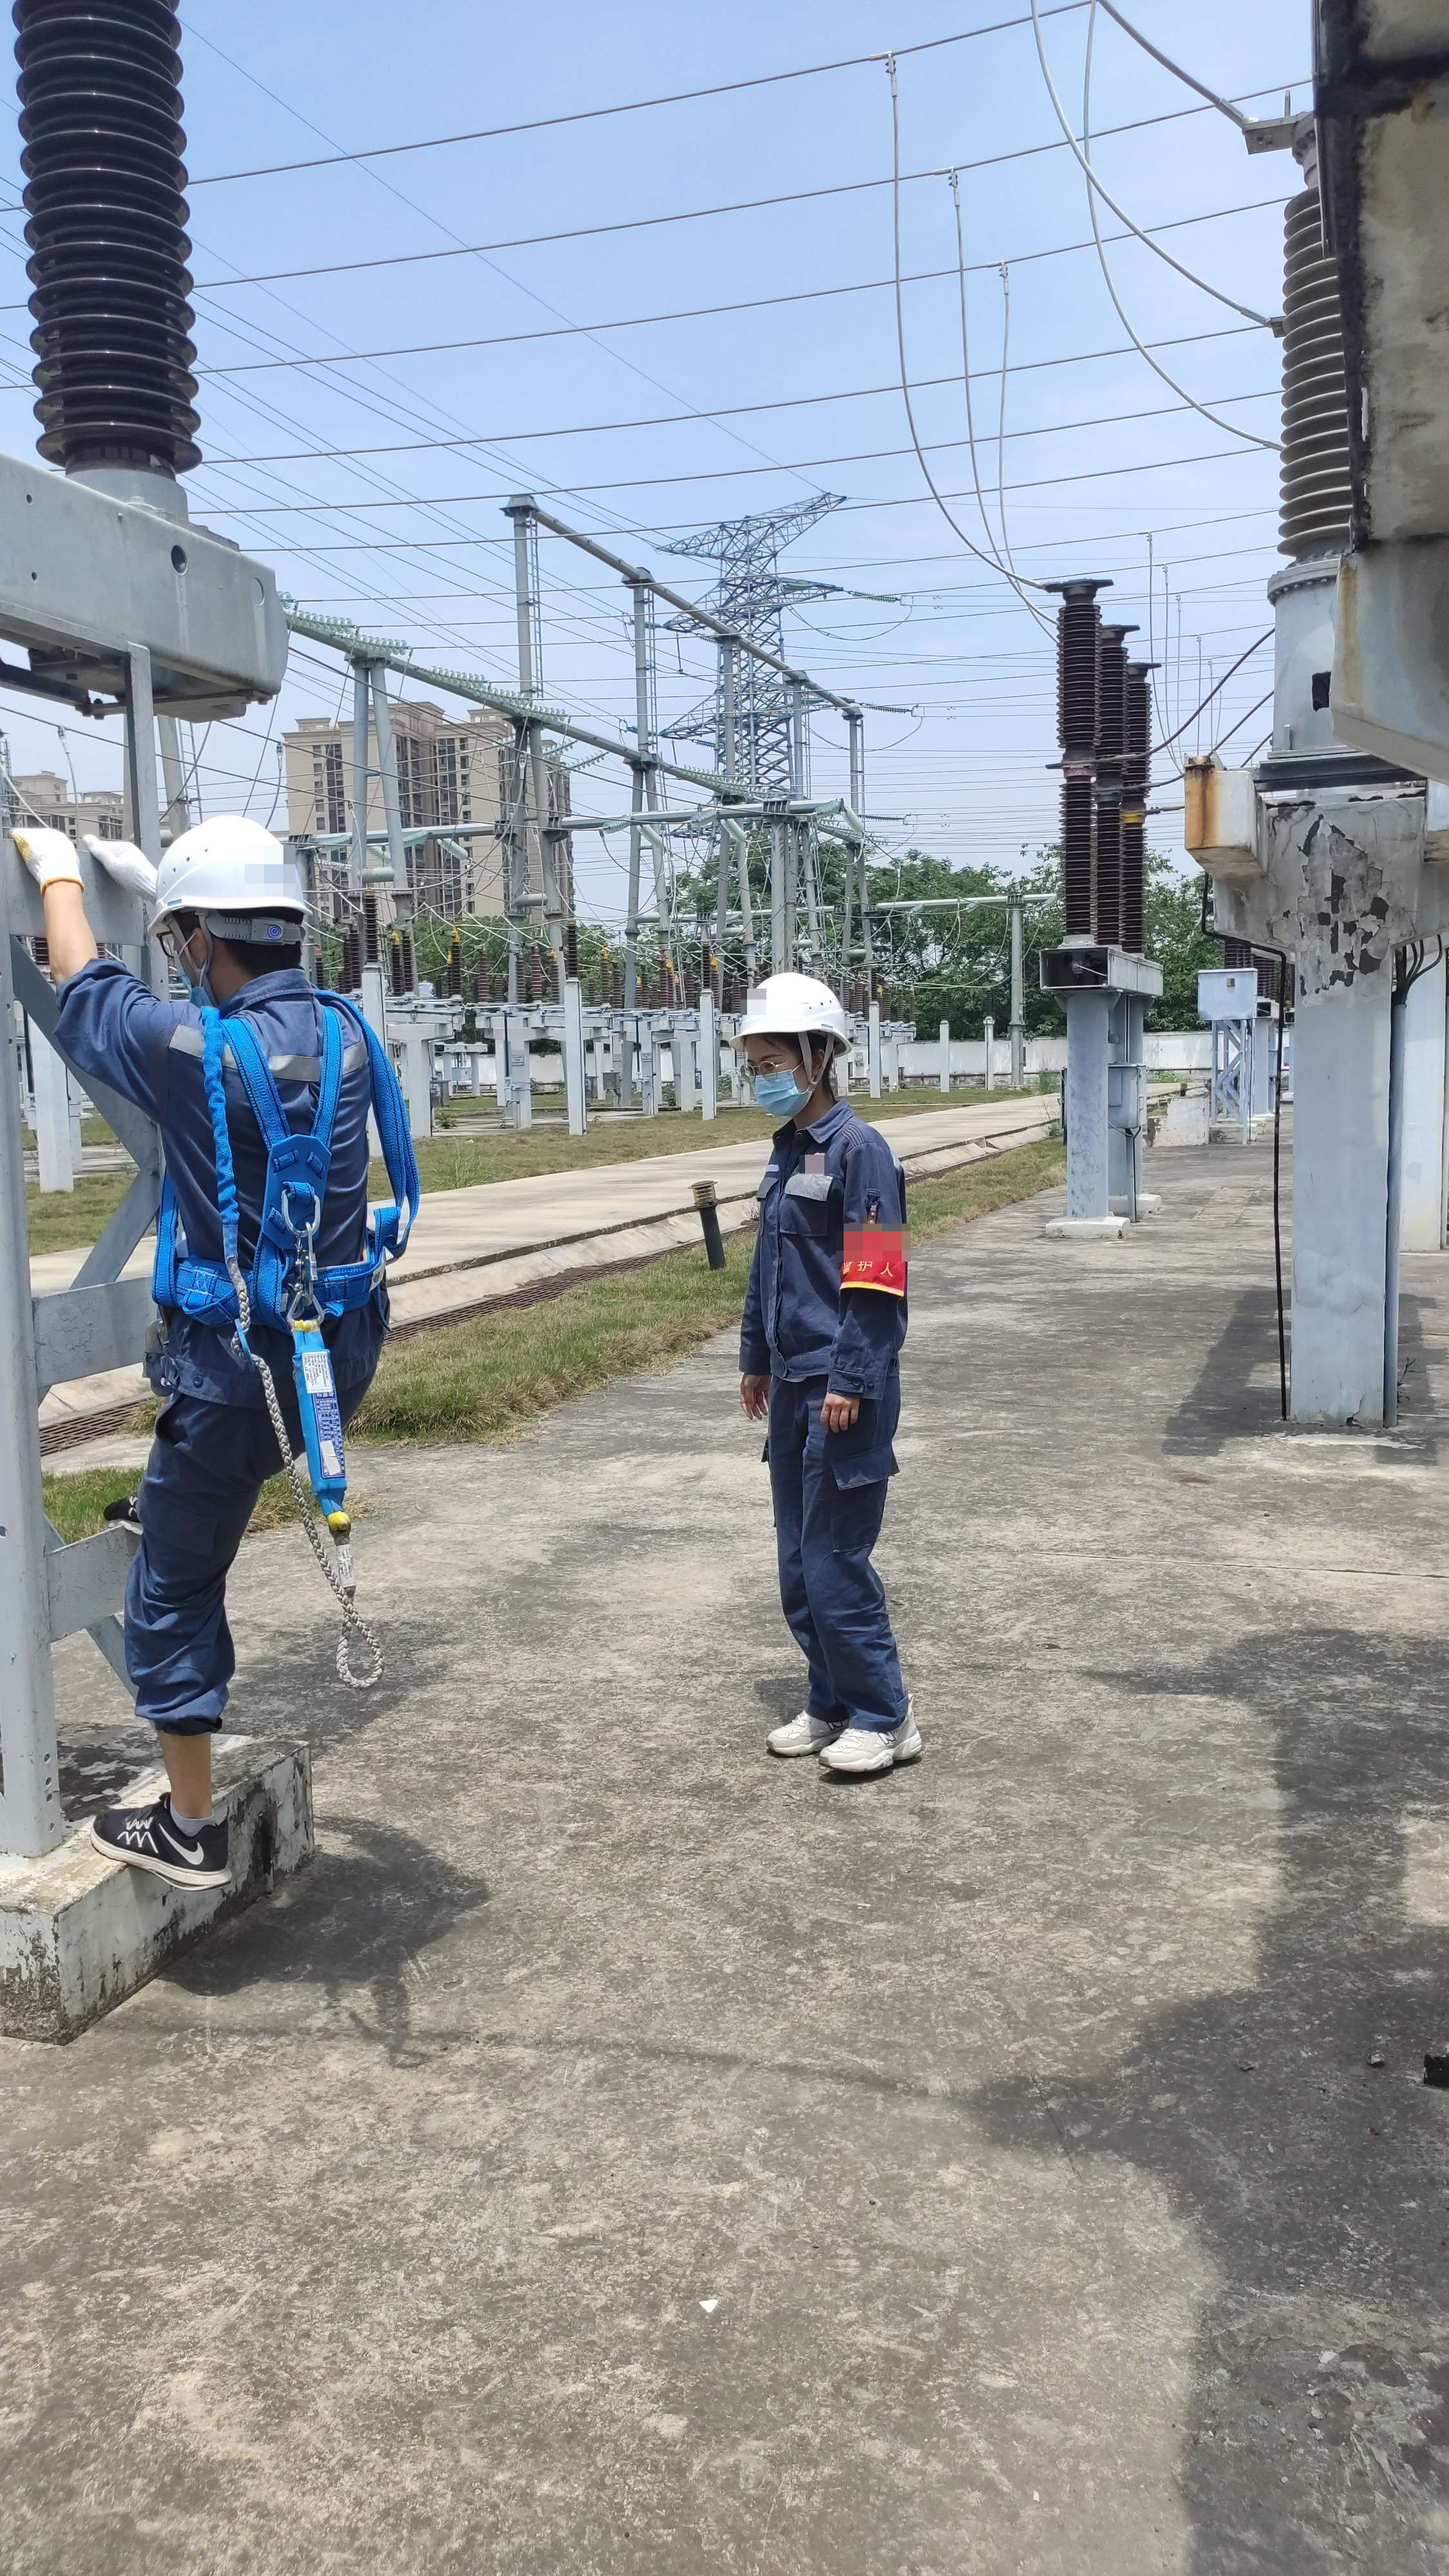downsuit: (111, 1382, 292, 1732), (771, 1421, 908, 1734)
upsuit: (71, 968, 398, 1338), (743, 1120, 915, 1392)
wrongbottom: (140, 1654, 235, 1821)
wrongtop: (21, 855, 117, 1016)
